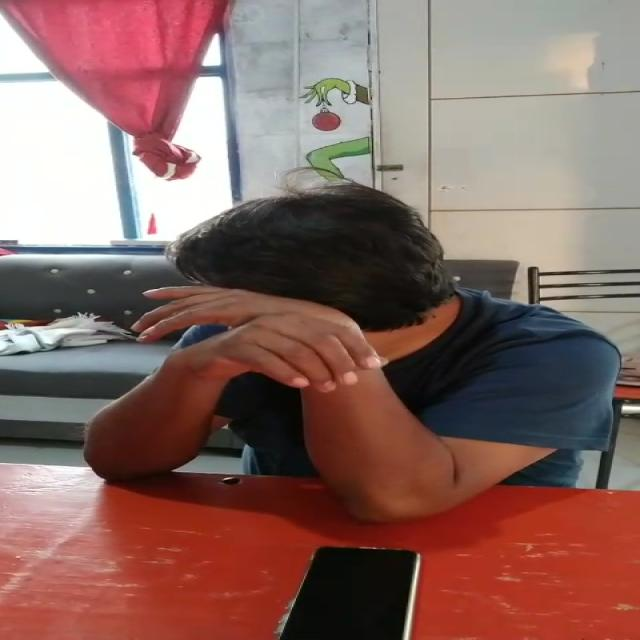7_mano_rostro: (189, 279, 431, 427)
